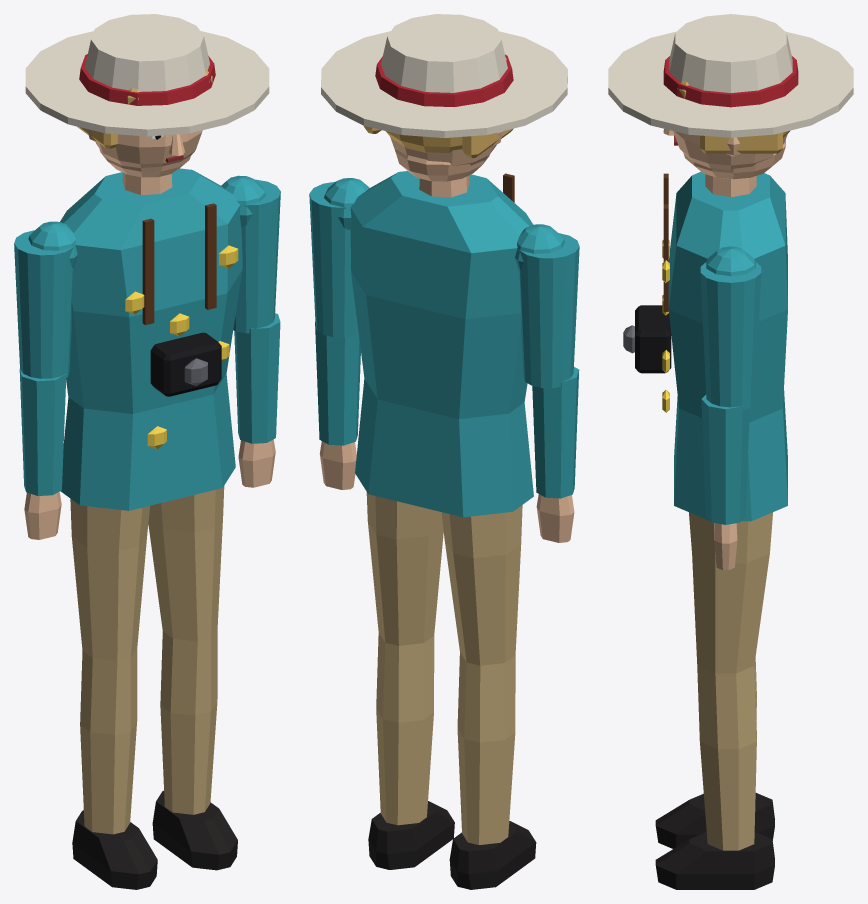
File: customer_tourist.obj
The picture shows the model from 3 angles, left to right: view 1: azimuth 30°, elevation 25°; view 2: azimuth 150°, elevation 25°; view 3: azimuth 270°, elevation 25°; orthographic projection.
Visible parts, largest first — view 1: customer_tourist; view 2: customer_tourist; view 3: customer_tourist.
Part boxes in pixels (x1,y1,x2,y2): customer_tourist: (14,14,280,889); customer_tourist: (309,14,579,889); customer_tourist: (608,14,853,889).
Bounding box in the file's own units: 0.58 × 1.75 × 0.4728.
